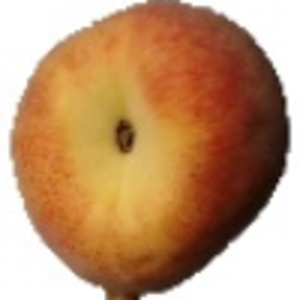pêssego: (8, 1, 291, 300)
